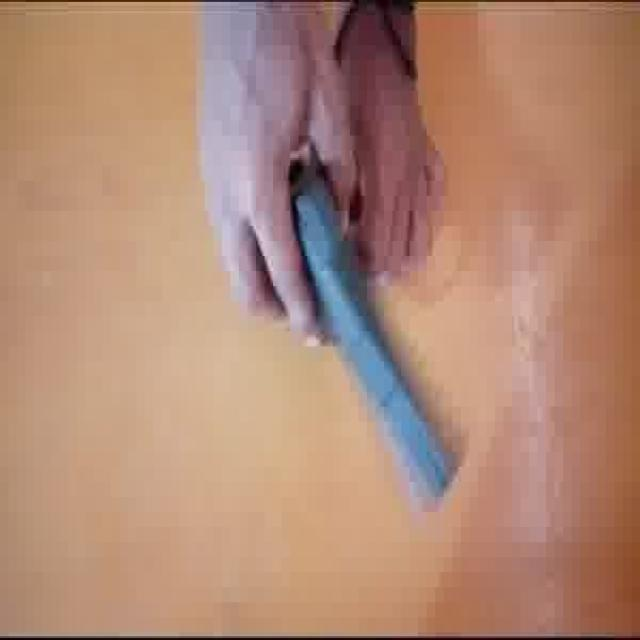weapon: (290, 164, 462, 512)
